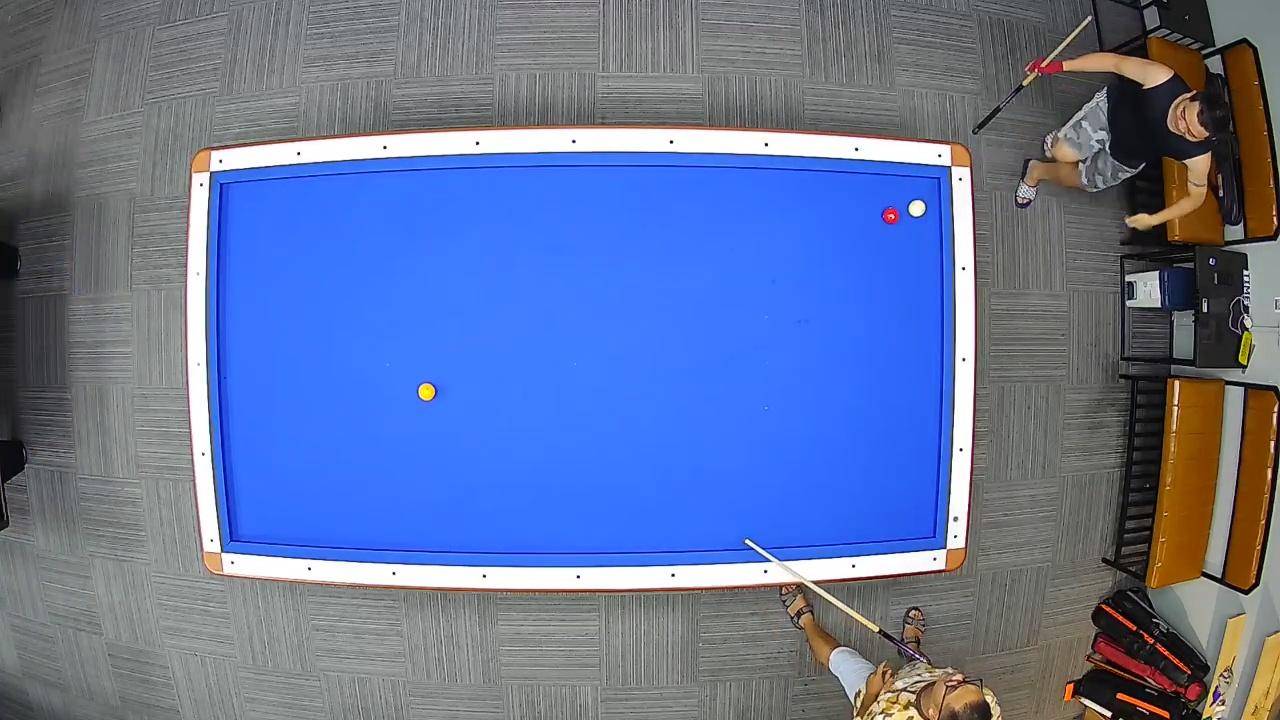Red: (880, 205, 900, 224)
White: (907, 198, 926, 221)
Yellow: (414, 380, 438, 402)
